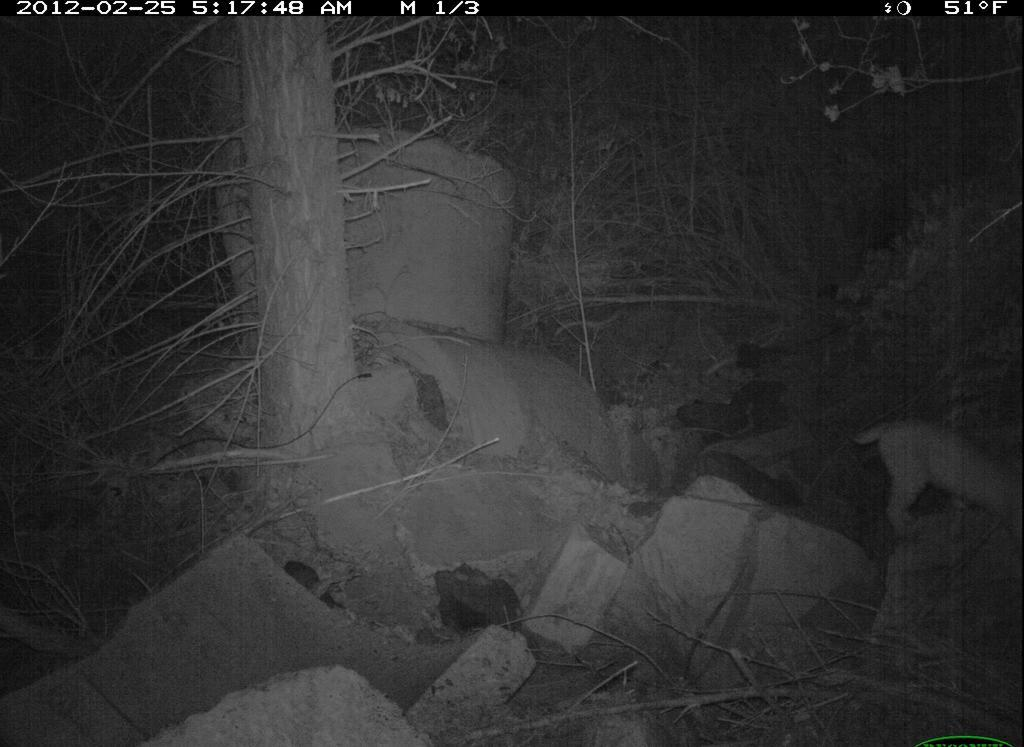bobcat: (845, 410, 1024, 557)
